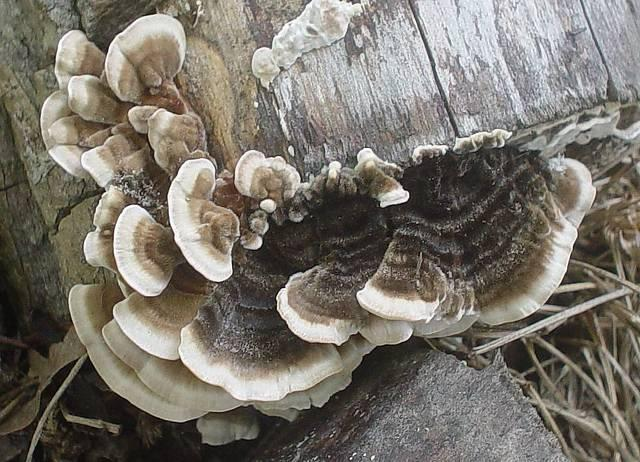poisonous_mushroom: (39, 11, 597, 443), (355, 129, 596, 339), (166, 156, 240, 282), (103, 12, 187, 105)
